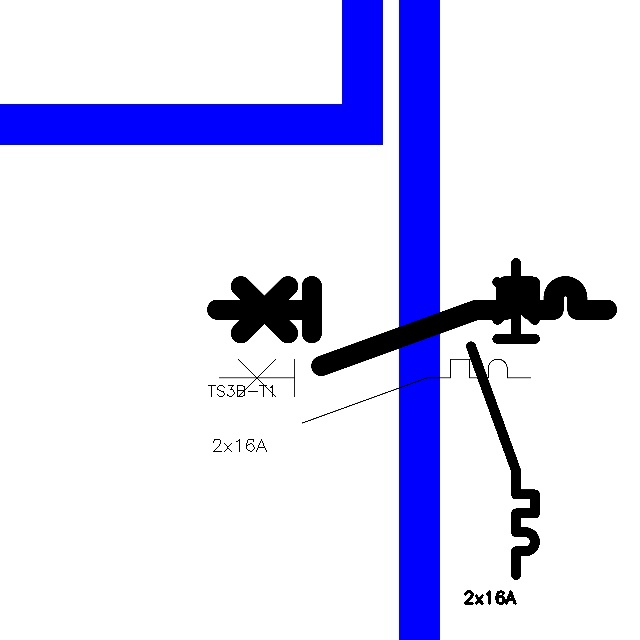interruptor_termomagnetico: (207, 276, 617, 376), (211, 351, 539, 431), (463, 255, 543, 583)
